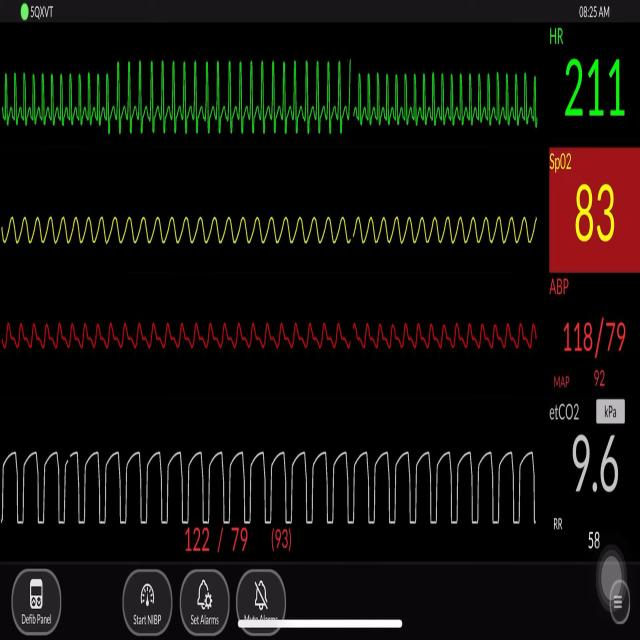danger: (108, 43, 354, 139), (373, 52, 542, 141), (2, 54, 94, 141)
